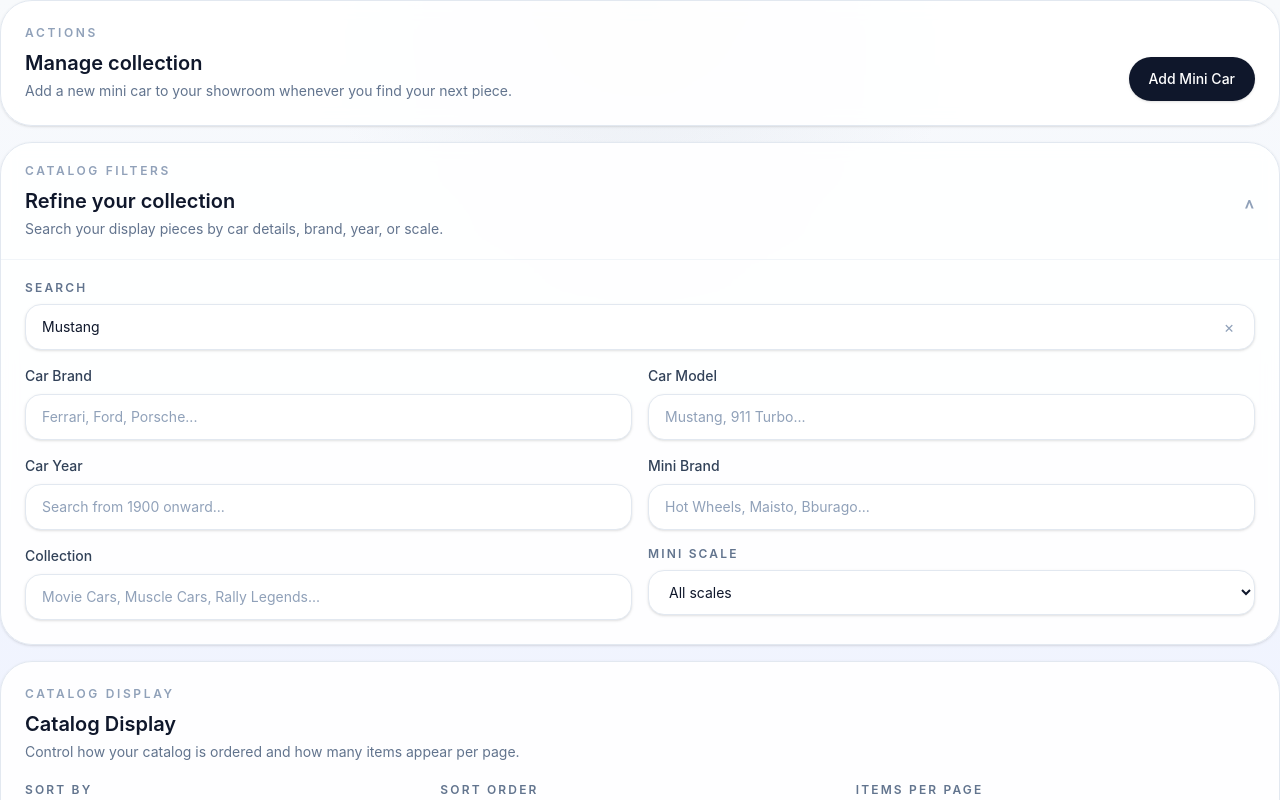
Test case: CatalogToolbar › collapses and re-expands filters without losing values
Step 1. Click the button "Catalog Filters" → [98, 170], box [1,143,1279,259]
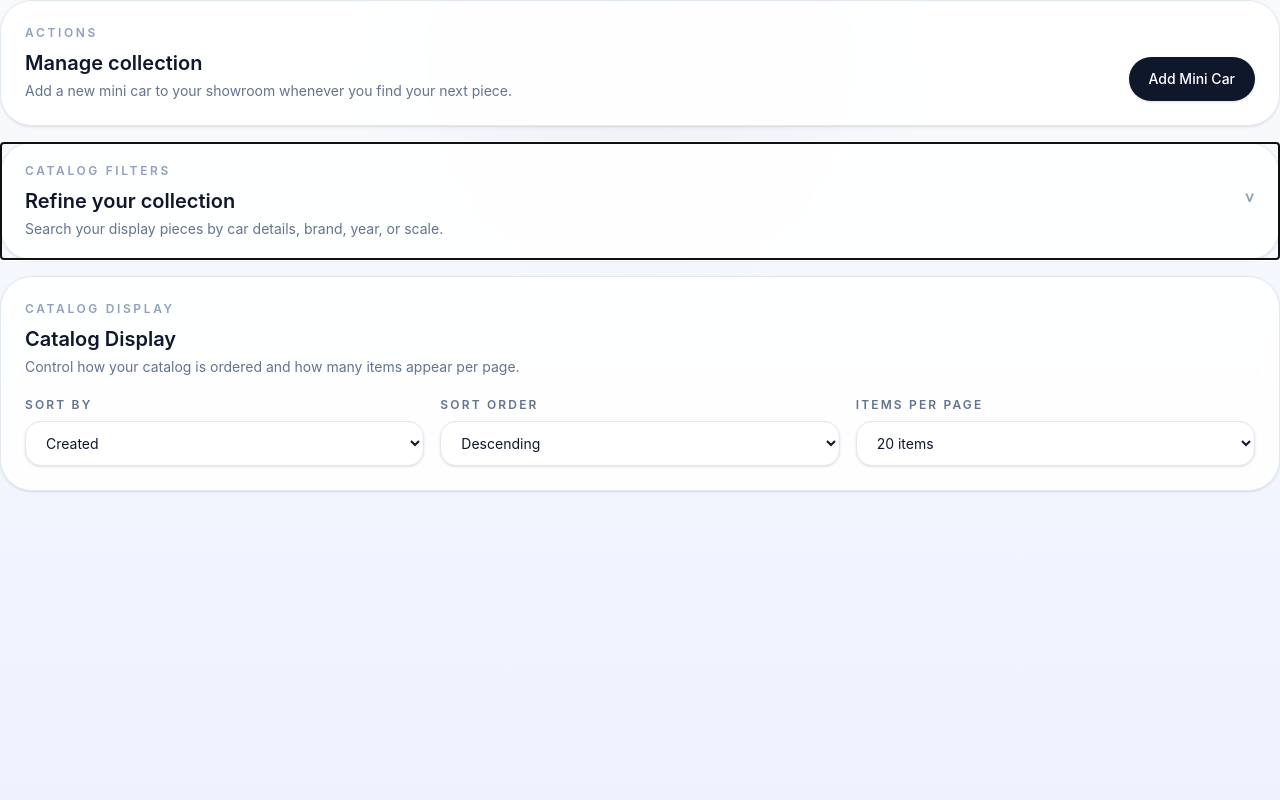
Check: the button "Catalog Filters" is collapsed
Step 2. Click the button "Catalog Filters" → [98, 170], box [1,143,1279,259]
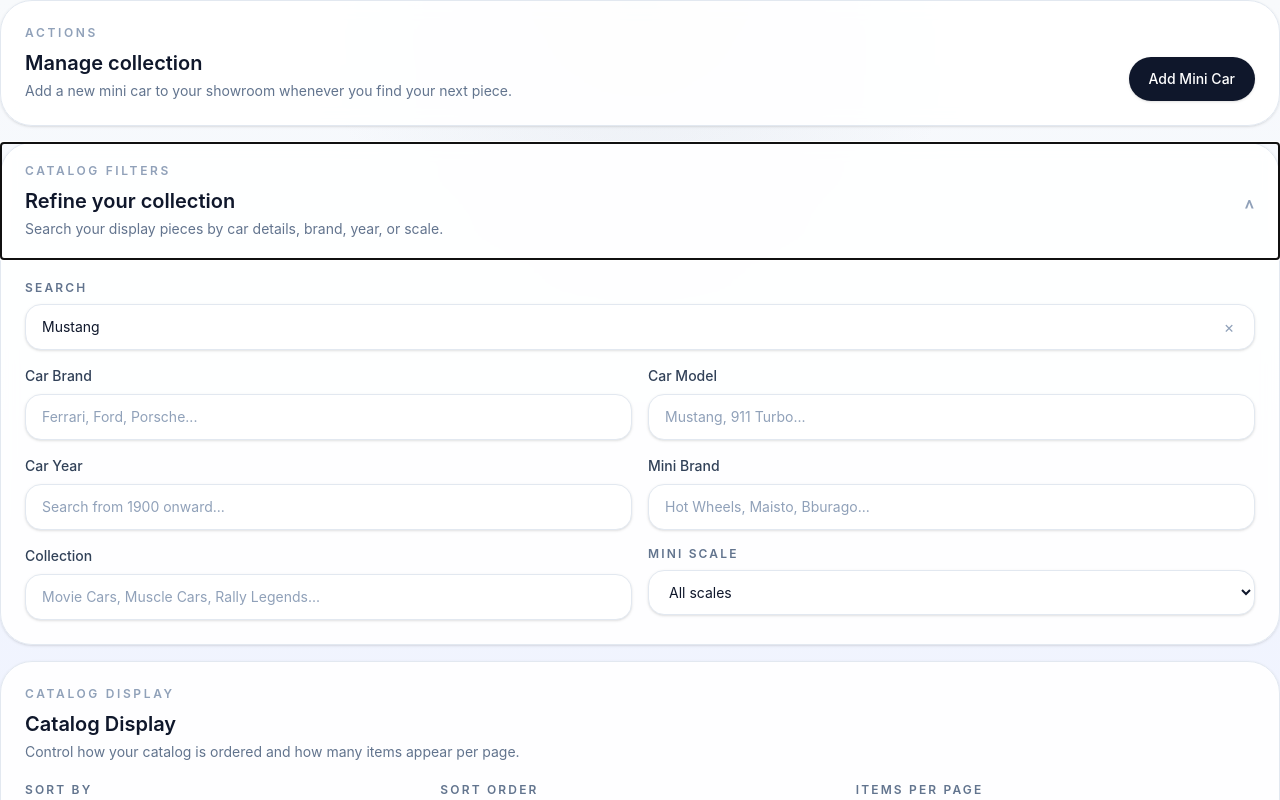
Check: the button "Catalog Filters" is expanded, box [1,143,1279,259]
Check: the field labelled "Search" holds "Mustang", box [25,304,1255,350]
